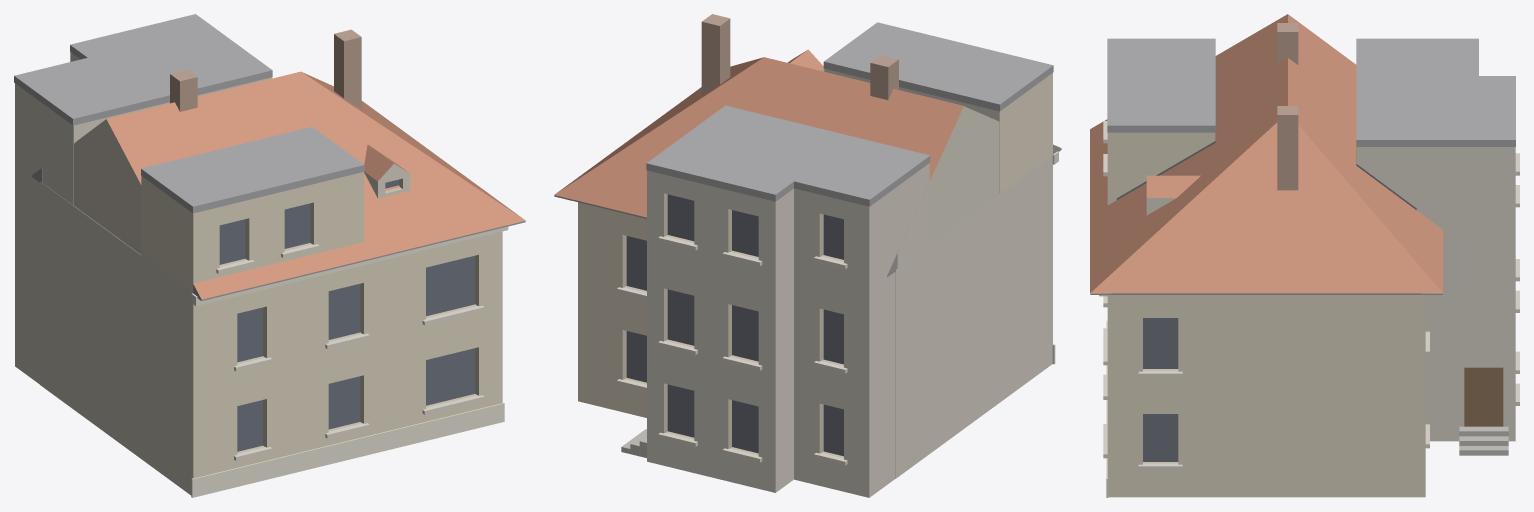
3 views of the same model, side by side, from view 1: azimuth 30°, elevation 25°; view 2: azimuth 150°, elevation 25°; view 3: azimuth 270°, elevation 25° (orthographic). The views are drawn at different scales.
Parts seen in each view (by area): view 1: CP_1915_Masonry, CP_1915_Roof, CP_1915_Vol_mansard_front_Masonry, CP_1915_WingRoof_vol_mansard_rear, CP_1915_Vol_mansard_rear_Masonry, CP_1915_WingRoof_vol_mansard_front, CP_1915_Cornice_main_plinth_0, CP_1915_AtticClosure, CP_1915_Chimney_0, CP_1915_Dormer_d1, CP_1915_Cornice_main_eave_0, CP_1915_Chimney_1 (+1 smaller); view 2: CP_1915_Vol_mansard_rear_Masonry, CP_1915_Masonry, CP_1915_Roof, CP_1915_WingRoof_vol_mansard_rear, CP_1915_WingRoof_vol_mansard_front, CP_1915_AtticClosure, CP_1915_Vol_mansard_front_Masonry, CP_1915_Chimney_0, CP_1915_Chimney_1; view 3: CP_1915_Masonry, CP_1915_Roof, CP_1915_Vol_mansard_rear_Masonry, CP_1915_WingRoof_vol_mansard_rear, CP_1915_WingRoof_vol_mansard_front, CP_1915_Vol_mansard_front_Masonry, CP_1915_Chimney_0, CP_1915_Dormer_d1, CP_1915_Chimney_1, CP_1915_Roof_EaveClosure_1, CP_1915_Step_0_2, CP_1915_Step_0_0 (+1 smaller).
Boxes of the visible parts, x1=… form: CP_1915_Masonry: x1=40, y1=181, x2=502, y2=495; CP_1915_Roof: x1=74, y1=71, x2=525, y2=299; CP_1915_Vol_mansard_front_Masonry: x1=141, y1=172, x2=363, y2=293; CP_1915_WingRoof_vol_mansard_rear: x1=14, y1=14, x2=272, y2=125; CP_1915_Vol_mansard_rear_Masonry: x1=15, y1=52, x2=272, y2=384; CP_1915_WingRoof_vol_mansard_front: x1=141, y1=126, x2=364, y2=213; CP_1915_Cornice_main_plinth_0: x1=191, y1=402, x2=504, y2=497; CP_1915_AtticClosure: x1=74, y1=119, x2=141, y2=254; CP_1915_Chimney_0: x1=334, y1=29, x2=361, y2=108; CP_1915_Dormer_d1: x1=364, y1=145, x2=410, y2=198; CP_1915_Cornice_main_eave_0: x1=191, y1=226, x2=508, y2=306; CP_1915_Chimney_1: x1=170, y1=69, x2=197, y2=111; CP_1915_Vol_mansard_rear_Masonry: x1=647, y1=163, x2=929, y2=497; CP_1915_Masonry: x1=578, y1=155, x2=1052, y2=478; CP_1915_Roof: x1=554, y1=57, x2=1060, y2=275; CP_1915_WingRoof_vol_mansard_rear: x1=646, y1=105, x2=930, y2=206; CP_1915_WingRoof_vol_mansard_front: x1=823, y1=22, x2=1053, y2=111; CP_1915_AtticClosure: x1=929, y1=106, x2=999, y2=243; CP_1915_Vol_mansard_front_Masonry: x1=824, y1=68, x2=1052, y2=193; CP_1915_Chimney_0: x1=701, y1=14, x2=730, y2=95; CP_1915_Chimney_1: x1=870, y1=55, x2=898, y2=99; CP_1915_Masonry: x1=1107, y1=295, x2=1425, y2=497; CP_1915_Roof: x1=1090, y1=14, x2=1443, y2=293; CP_1915_Vol_mansard_rear_Masonry: x1=1356, y1=147, x2=1515, y2=441; CP_1915_WingRoof_vol_mansard_rear: x1=1356, y1=38, x2=1515, y2=146; CP_1915_WingRoof_vol_mansard_front: x1=1107, y1=38, x2=1215, y2=132; CP_1915_Vol_mansard_front_Masonry: x1=1107, y1=132, x2=1215, y2=204; CP_1915_Chimney_0: x1=1277, y1=106, x2=1298, y2=190; CP_1915_Dormer_d1: x1=1146, y1=175, x2=1200, y2=215; CP_1915_Chimney_1: x1=1277, y1=23, x2=1298, y2=64; CP_1915_Roof_EaveClosure_1: x1=1111, y1=293, x2=1421, y2=294; CP_1915_Step_0_2: x1=1459, y1=426, x2=1508, y2=436; CP_1915_Step_0_0: x1=1459, y1=446, x2=1508, y2=455.
Size of the model in its own units: 11.05 by 11 by 12.17.
